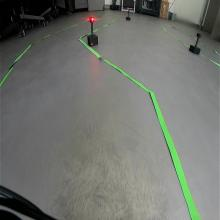red: (88, 16, 96, 24)
